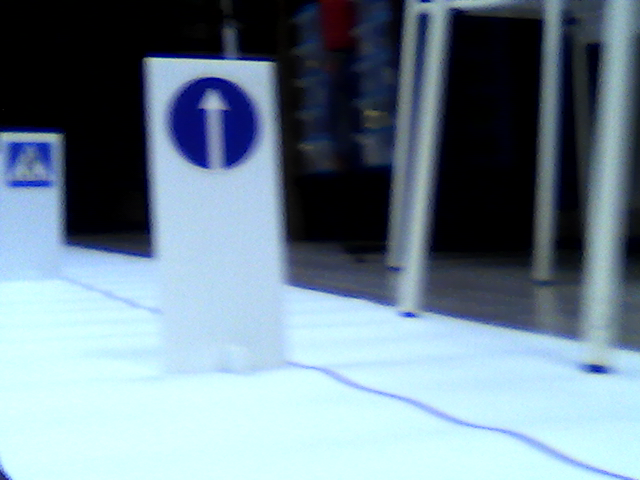forw: (164, 66, 266, 181)
pesh: (3, 141, 56, 186)
